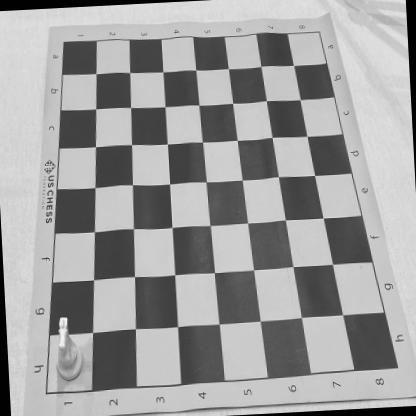white-knight: (52, 316, 84, 382)
